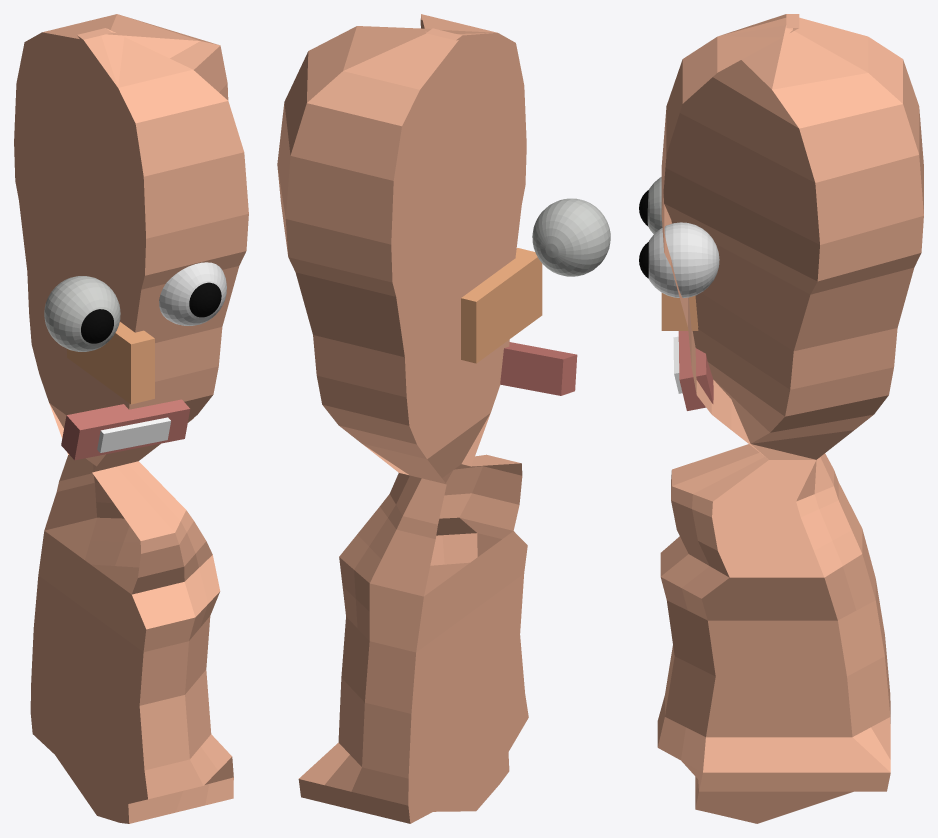
The model's file is modelando.glb.
3 views of the same model, side by side, from view 1: azimuth 30°, elevation 25°; view 2: azimuth 150°, elevation 25°; view 3: azimuth 270°, elevation 25° (orthographic). The views are drawn at different scales.
Visible parts, largest first — view 1: Cube.001, Cube, Cube.002, Sphere, Sphere.001, Cube.003, Sphere.003, Sphere.002; view 2: Cube.001, Cube, Sphere, Cube.002; view 3: Cube.001, Sphere.001, Cube.002, Cube, Sphere.
Part boxes in pixels (bbox=[...]): Cube.001: bbox=[14, 14, 248, 823]; Cube: bbox=[67, 322, 154, 404]; Cube.002: bbox=[61, 399, 190, 460]; Sphere: bbox=[44, 276, 120, 351]; Sphere.001: bbox=[159, 262, 226, 325]; Cube.003: bbox=[97, 417, 170, 452]; Sphere.003: bbox=[81, 309, 113, 343]; Sphere.002: bbox=[189, 282, 221, 317]; Cube.001: bbox=[277, 14, 528, 823]; Cube: bbox=[461, 248, 542, 363]; Sphere: bbox=[532, 198, 610, 276]; Cube.002: bbox=[500, 342, 577, 395]; Cube.001: bbox=[657, 14, 923, 823]; Sphere.001: bbox=[648, 222, 719, 297]; Cube.002: bbox=[678, 331, 713, 410]; Cube: bbox=[661, 293, 698, 330]; Sphere: bbox=[647, 177, 662, 234].
Size of the model in its own units: 0.7547 by 2.21 by 0.7503.
